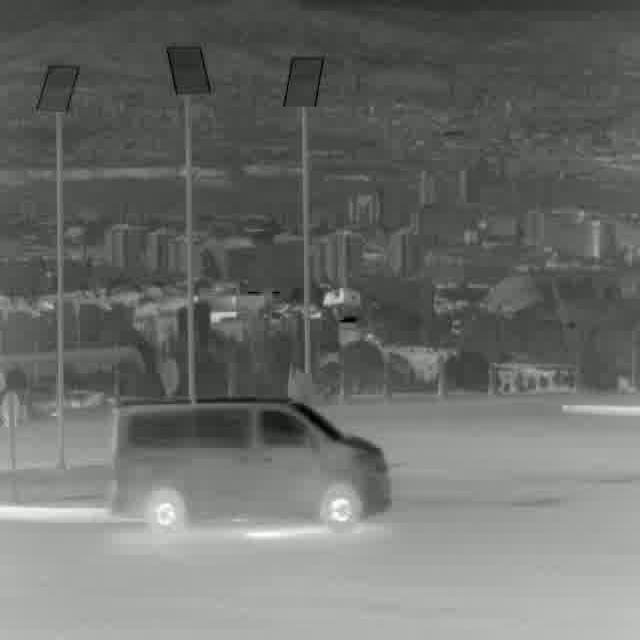Car: (109, 400, 391, 531)
